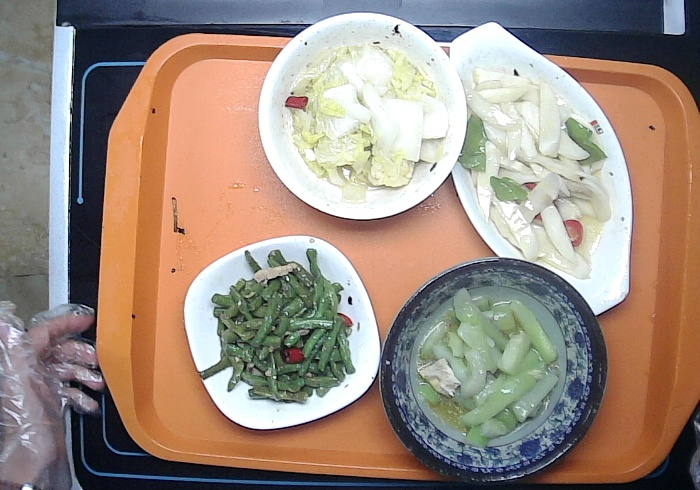ZNLD-Qing_Hua_Wan: (378, 259, 607, 490)
ZNLD-Si_Fang_Wan: (185, 232, 380, 431)
ZNLD-Tang_Wan: (259, 7, 469, 222)
ZNLD-Yu_Pan: (443, 19, 634, 318)
